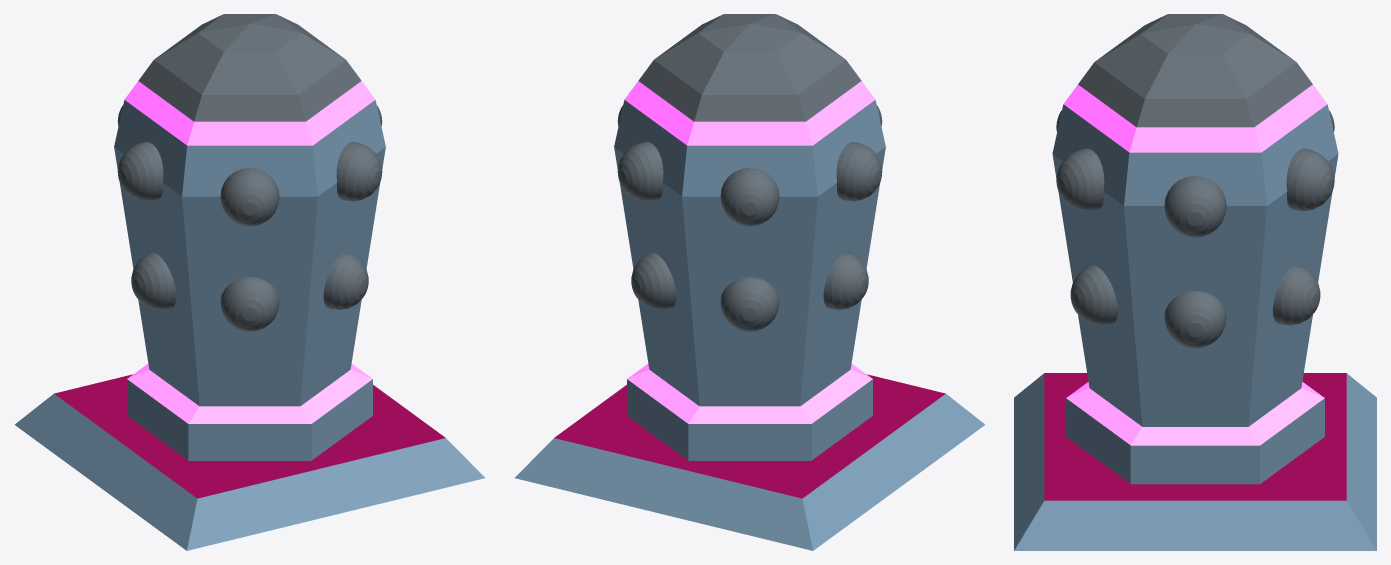
File: Waall_5.fbx
3 views of the same model, side by side, from view 1: azimuth 30°, elevation 25°; view 2: azimuth 150°, elevation 25°; view 3: azimuth 270°, elevation 25° (orthographic). The views are drawn at different scales.
Parts seen in each view (by area): view 1: waal_solid_5; view 2: waal_solid_5; view 3: waal_solid_5.
Part boxes in pixels (x1,y1,x2,y2): waal_solid_5: [14, 14, 484, 550]; waal_solid_5: [515, 14, 985, 550]; waal_solid_5: [1014, 14, 1376, 550].
Size of the model in its own units: 39.36 by 53.87 by 39.36.
